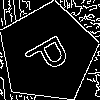P: (23, 28, 79, 79)
